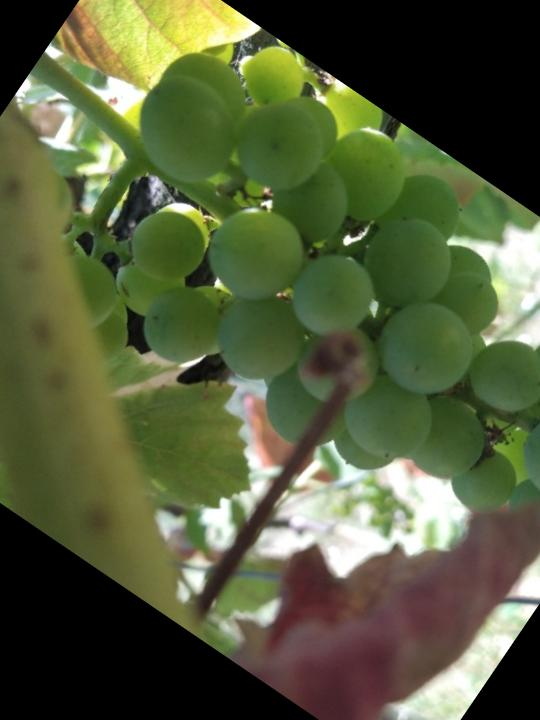grape: (29, 0, 540, 636)
